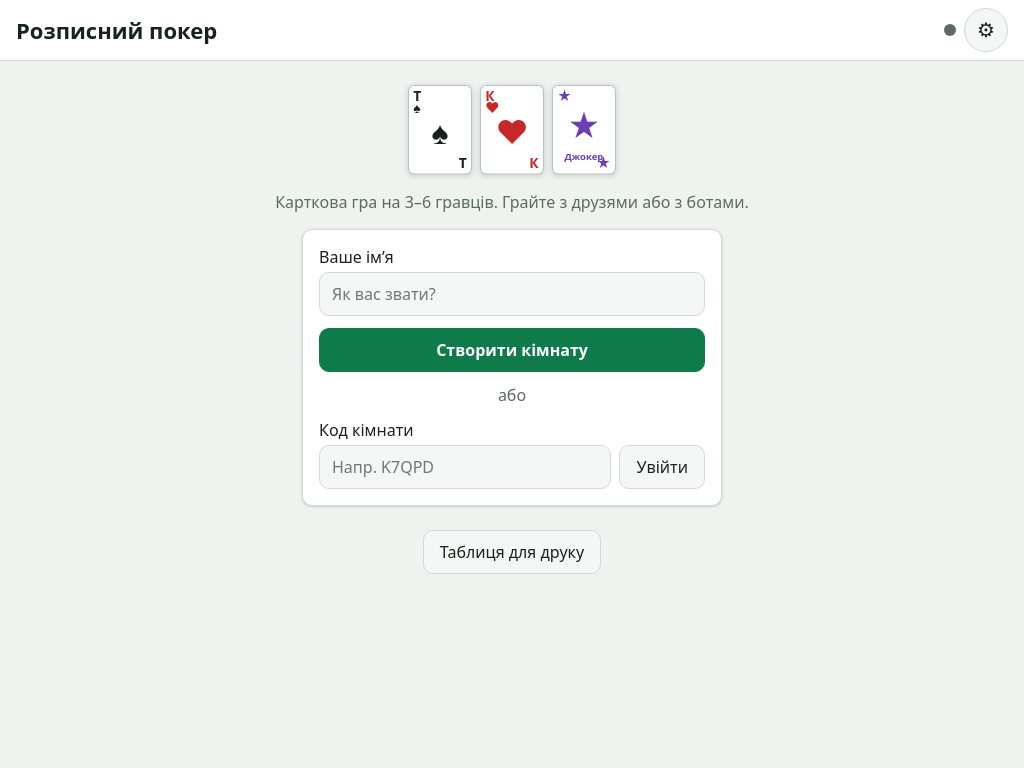
Test case: лобі › не дає створити кімнату без імені
Click the button "Створити кімнату" at coordinates (512, 350), box [319, 328, 705, 372]
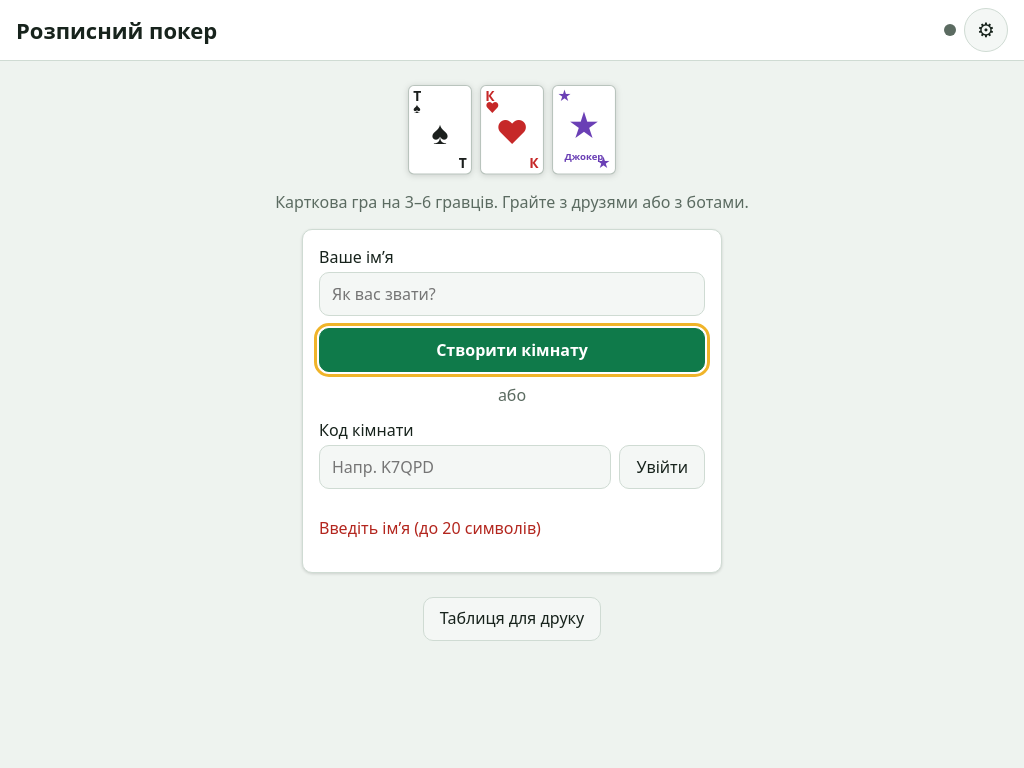
Result: the message shows "Введіть імʼя" at [319, 517, 541, 539]
